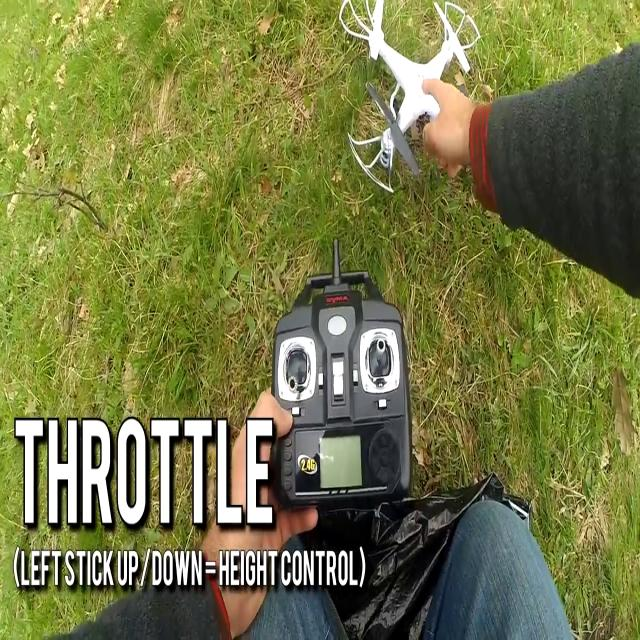drones: (337, 0, 476, 196)
